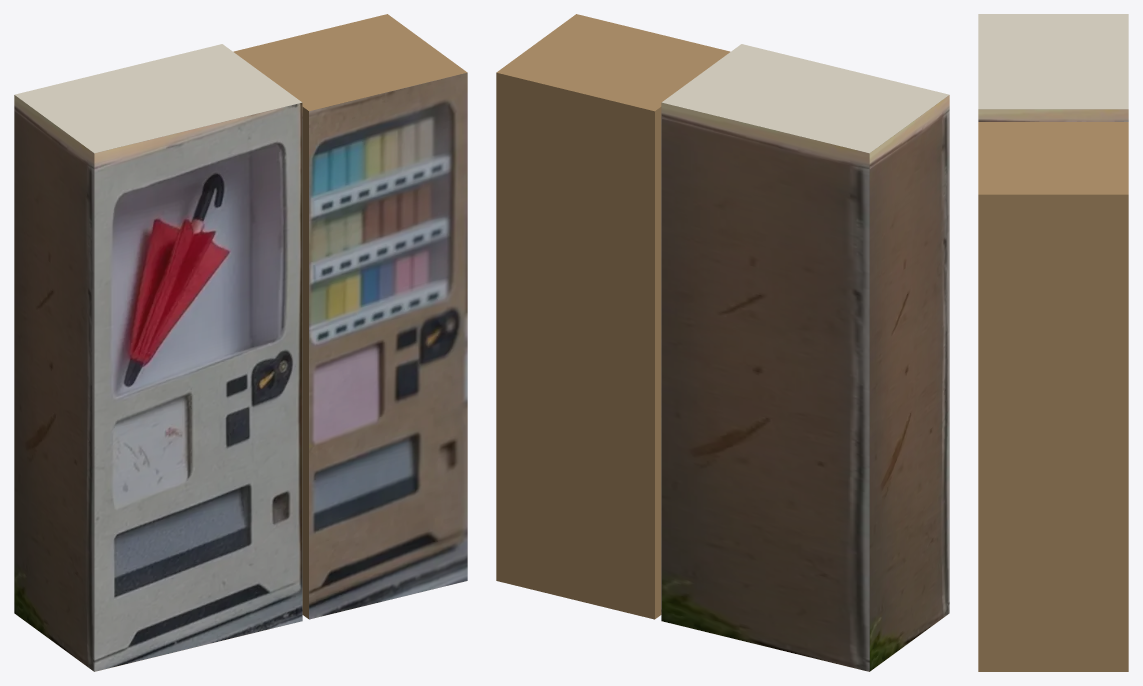
File: vending.glb
The picture shows the model from 3 angles, left to right: view 1: azimuth 30°, elevation 25°; view 2: azimuth 150°, elevation 25°; view 3: azimuth 270°, elevation 25°; orthographic projection. The views are drawn at different scales.
Visible parts, largest first — view 1: vending_umbrella, vending_drinks; view 2: vending_umbrella, vending_drinks; view 3: vending_drinks, vending_umbrella.
Boxes of the visible parts, x1,y1,x2,y2 form: vending_umbrella: (14,44,302,671); vending_drinks: (233,14,467,619); vending_umbrella: (661,44,949,671); vending_drinks: (496,14,730,619); vending_drinks: (978,122,1128,671); vending_umbrella: (978,14,1128,121).
Size of the model in its own units: 0.113 by 0.15 by 0.042.
5 materials, 3 textured.
